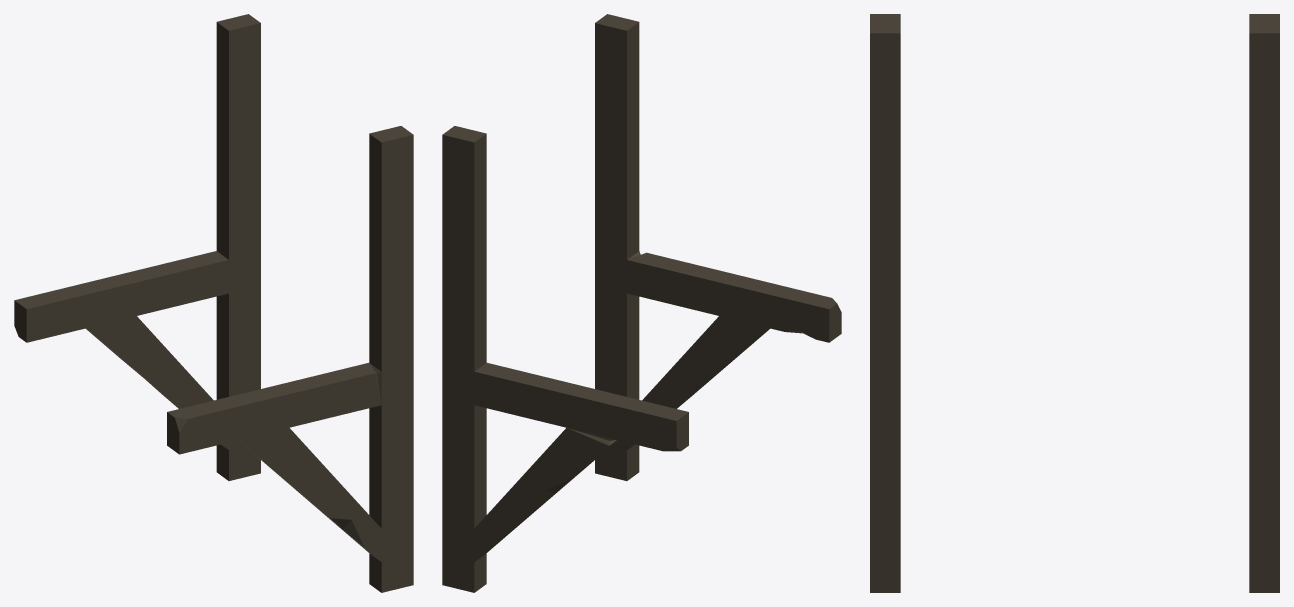
Rendered from kingdom_SM_Bld_House_Supports_03.gltf.
3 views of the same model, side by side, from view 1: azimuth 30°, elevation 25°; view 2: azimuth 150°, elevation 25°; view 3: azimuth 270°, elevation 25° (orthographic). The views are drawn at different scales.
Visible parts, largest first — view 1: SM_Bld_House_Supports_03; view 2: SM_Bld_House_Supports_03; view 3: SM_Bld_House_Supports_03.
Boxes of the visible parts, x1=… form: SM_Bld_House_Supports_03: x1=14, y1=14, x2=413, y2=592; SM_Bld_House_Supports_03: x1=442, y1=14, x2=841, y2=592; SM_Bld_House_Supports_03: x1=870, y1=14, x2=1279, y2=592.
Size of the model in its own units: 1.25 by 2.3 by 1.53.
1 material, 1 textured.
